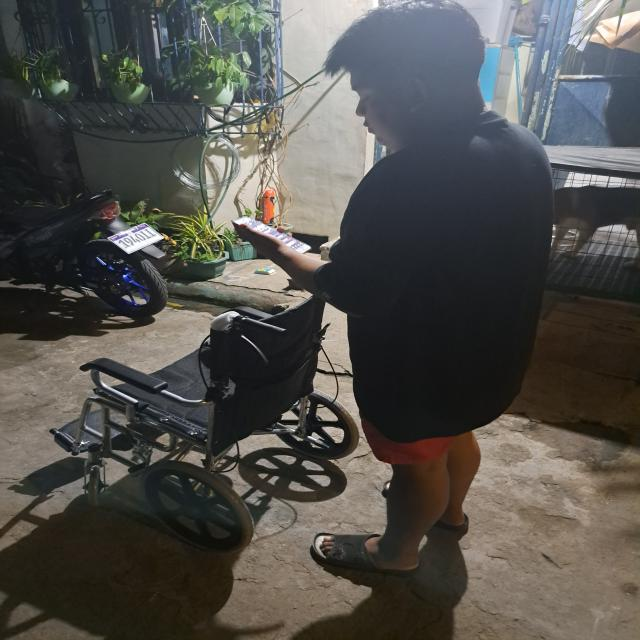wheelchairs: (45, 296, 364, 553)
